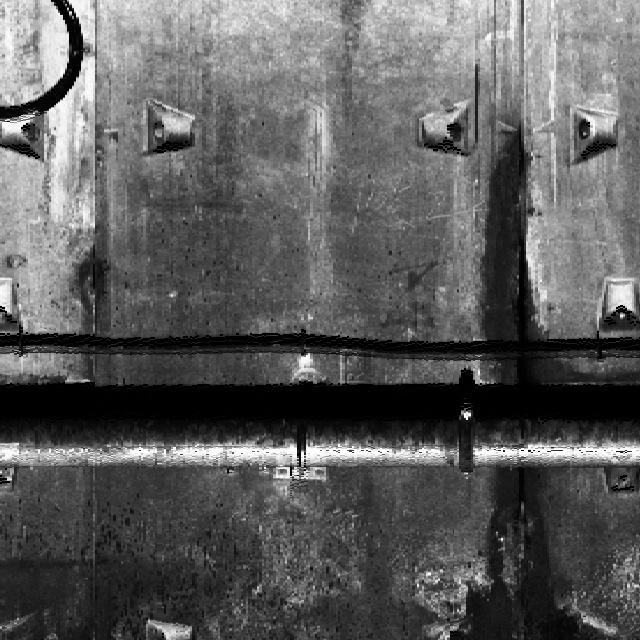leakage: (450, 459, 623, 639), (467, 113, 577, 387)
